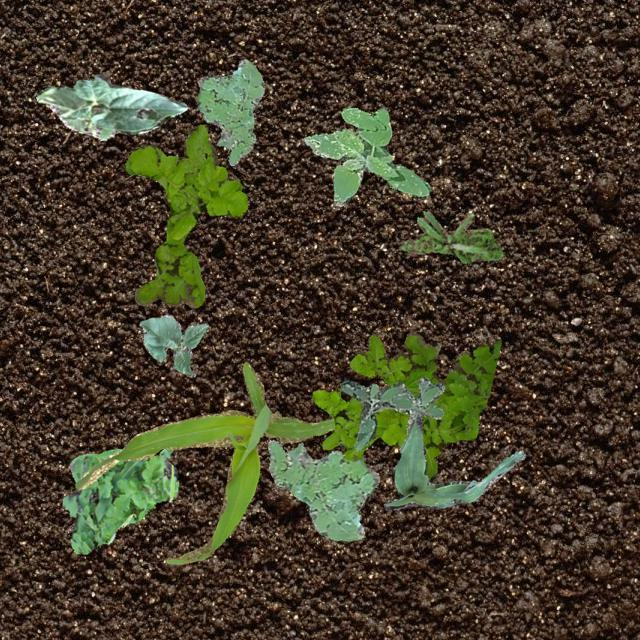crop: (74, 360, 334, 564), (382, 414, 524, 509), (36, 72, 186, 140), (138, 313, 208, 377)
weed: (312, 331, 500, 478), (125, 124, 246, 306), (302, 106, 430, 206), (62, 448, 178, 552), (266, 438, 379, 540), (339, 376, 444, 454), (194, 59, 264, 164), (401, 210, 502, 262)
